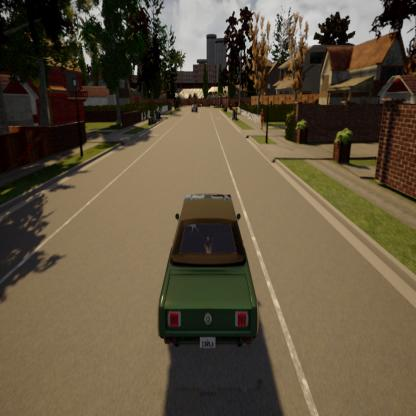Cars: (153, 187, 264, 358), (190, 102, 199, 115)
Pedestrian: (257, 104, 266, 132)
